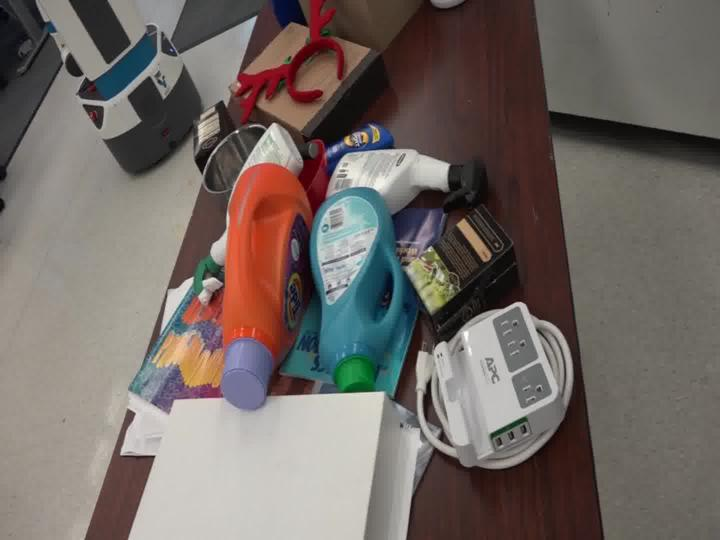tide: (218, 138, 315, 406)
